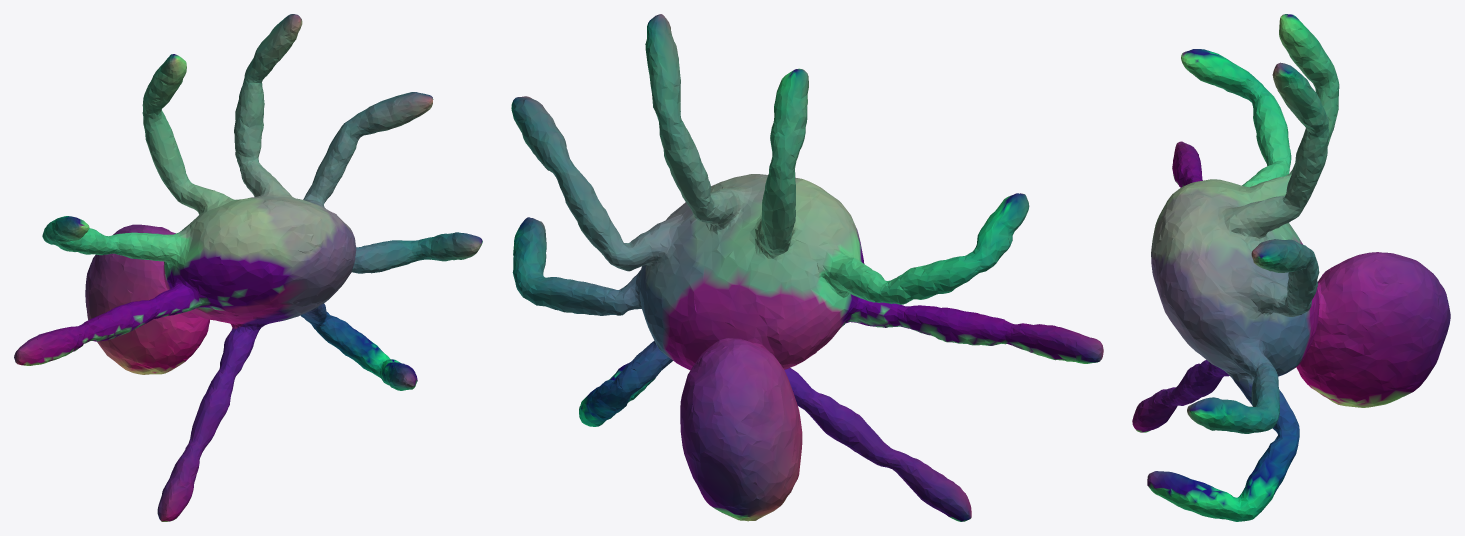
Rendered from spider-14.off.obj.
3 views of the same model, side by side, from view 1: azimuth 30°, elevation 25°; view 2: azimuth 150°, elevation 25°; view 3: azimuth 270°, elevation 25° (orthographic). The views are drawn at different scales.
Size of the model in its own units: 1.62 by 1.36 by 0.8306.
